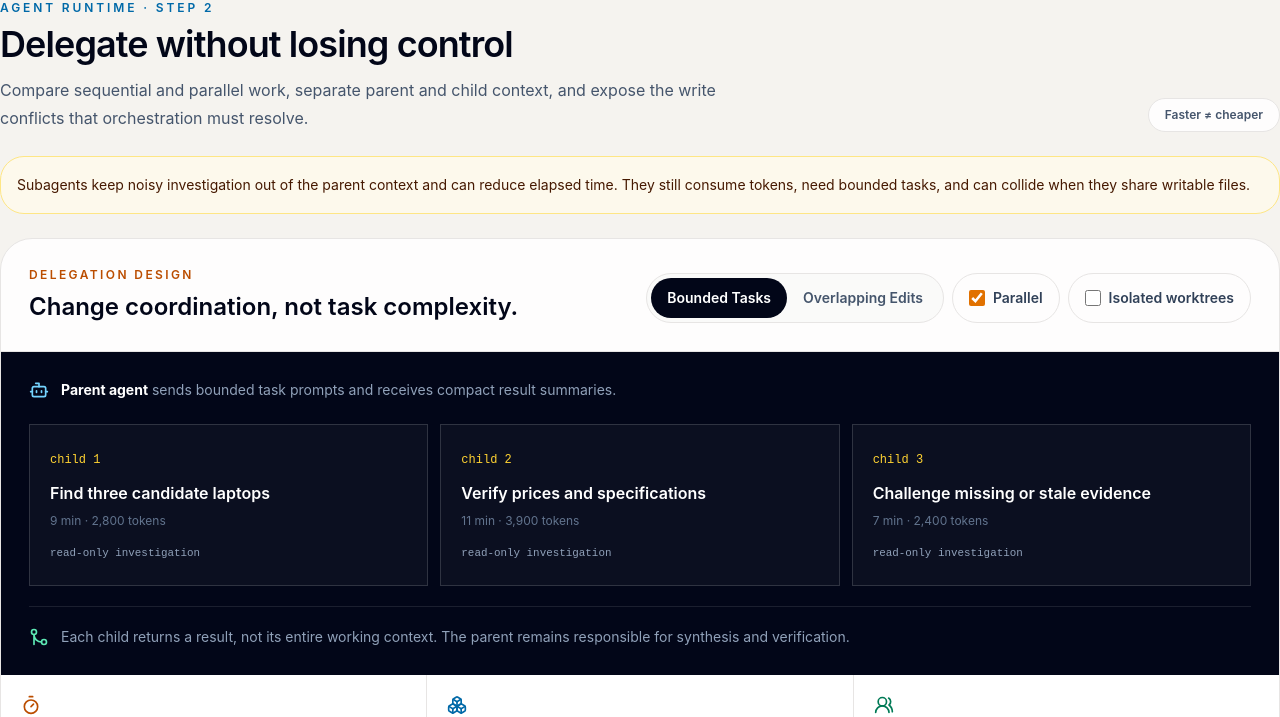
Scenario: agent system lab pages › exposes conflicts and worktree isolation
The width and height of the screenshot is (1280, 717).
Click the button with test id "subagent-scenario-overlap" at (863, 298), box left=787, top=278, right=939, bottom=318
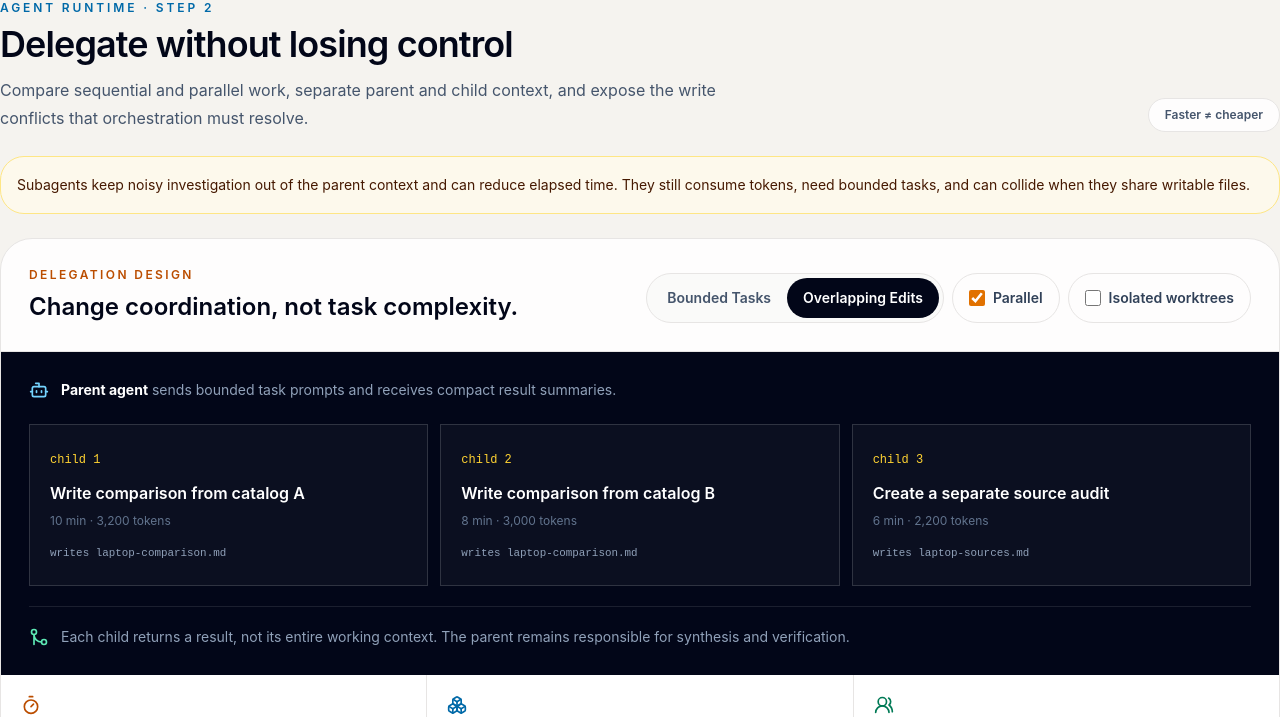
Click the checkbox with test id "subagent-isolated" at (1093, 298), box left=1085, top=290, right=1101, bottom=306
(page scrolled)
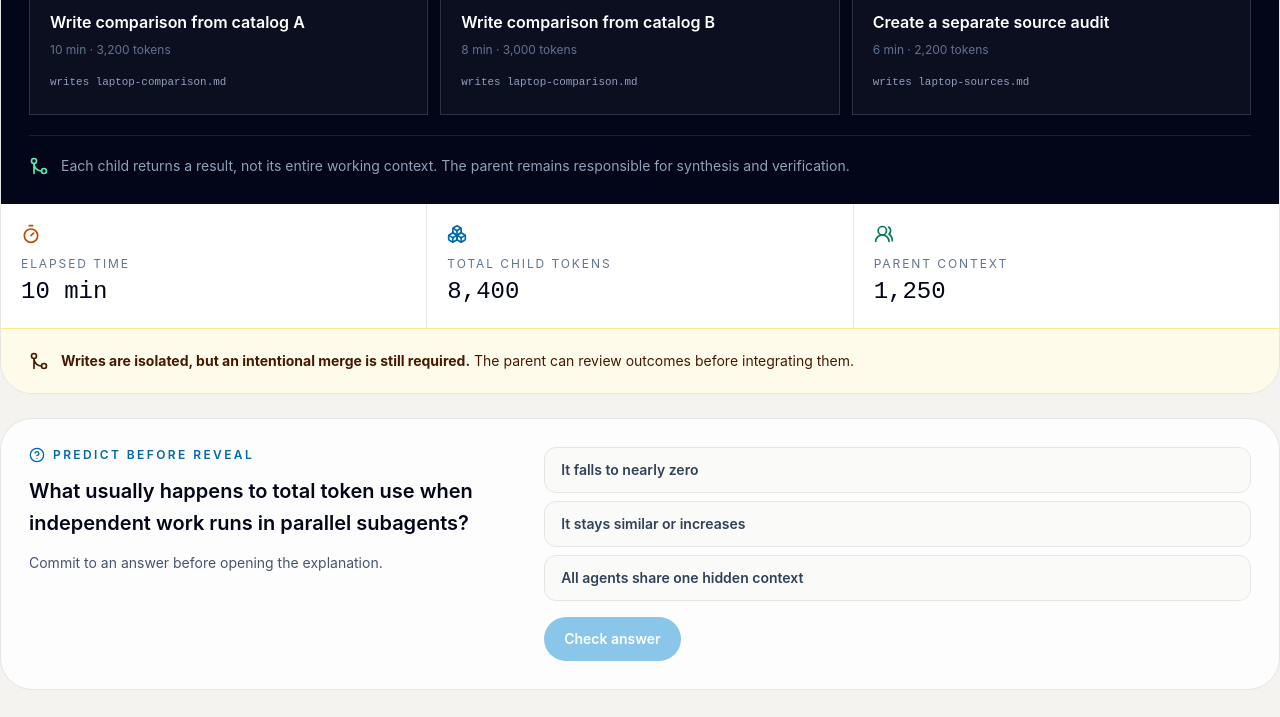
Result: the element with test id "subagent-conflict" shows "intentional merge" at left=61, top=352, right=470, bottom=369
